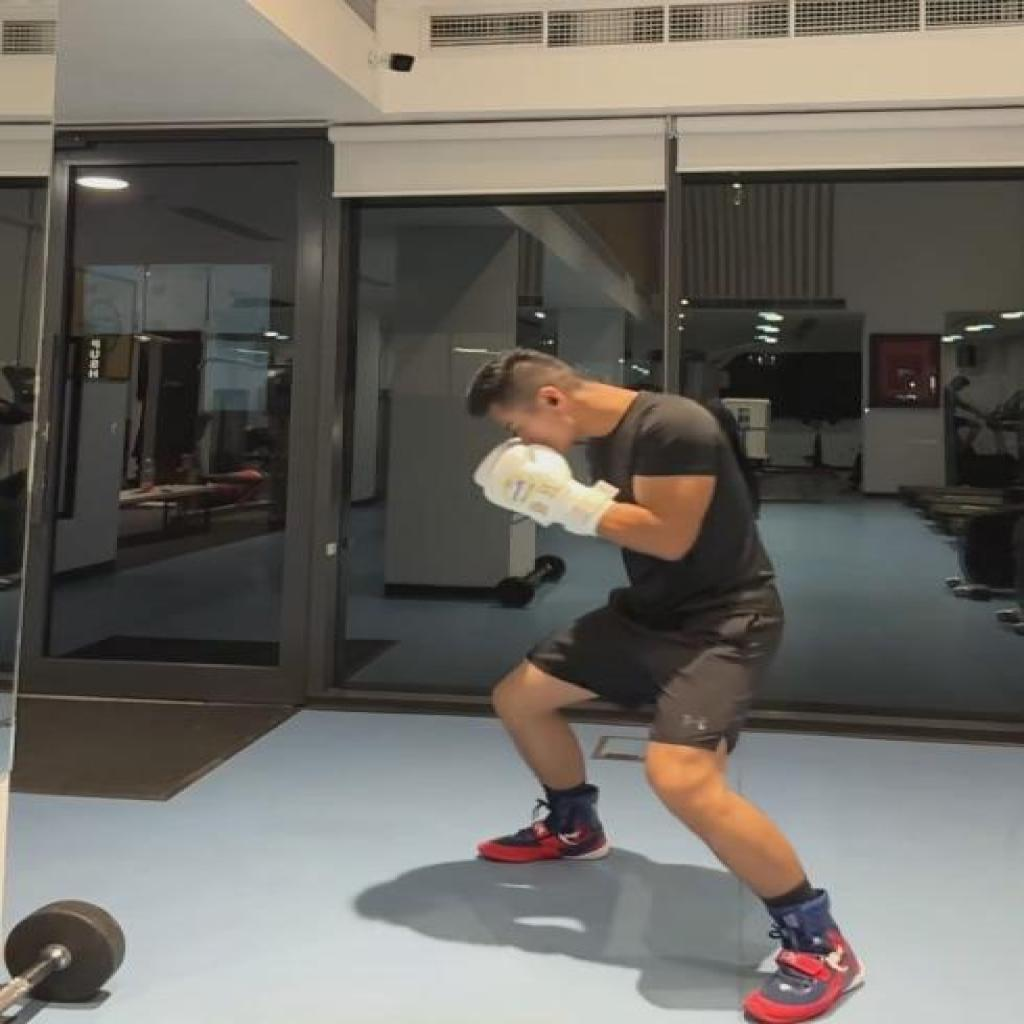no punch: (462, 344, 865, 1024)
